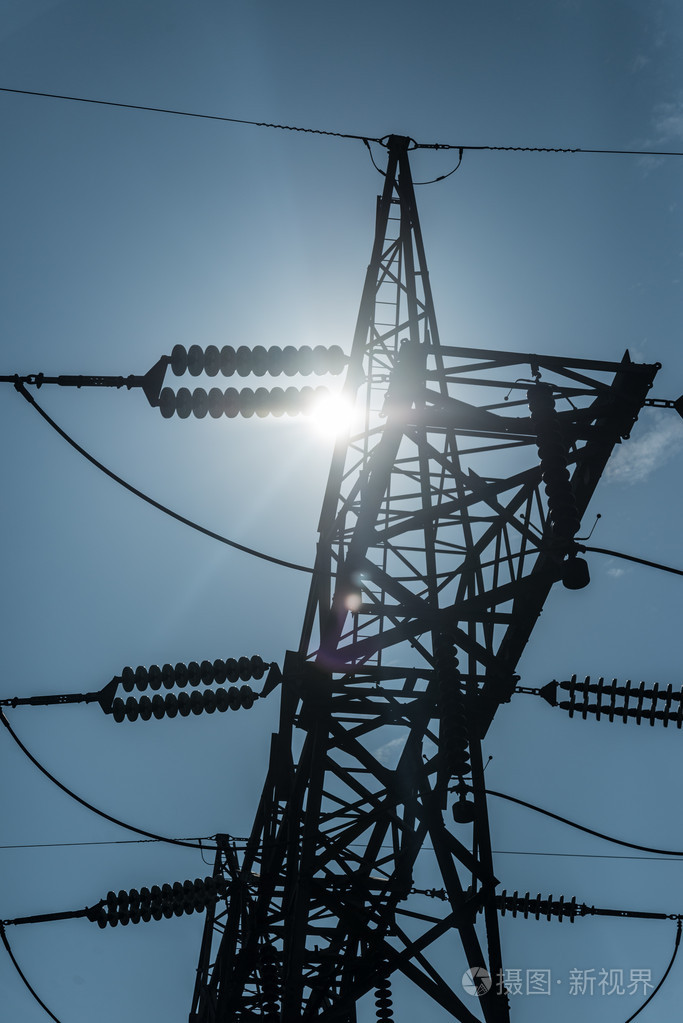insulator: (156, 335, 343, 422), (112, 652, 262, 723), (91, 870, 216, 930), (560, 668, 677, 732), (488, 890, 581, 927)
